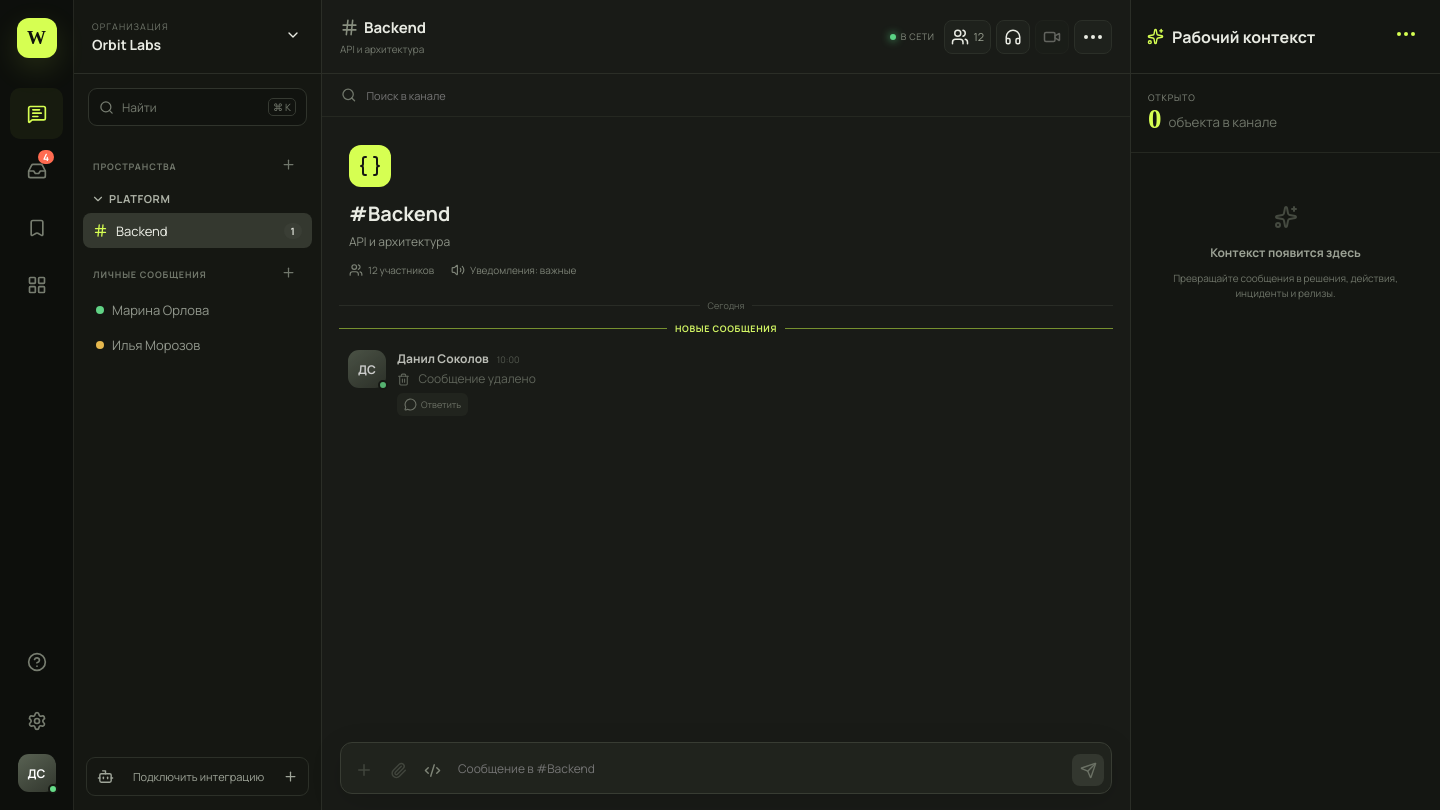
it: workspace shell › renders a tombstone without exposing deleted content to search or promotion
The width and height of the screenshot is (1440, 810).
Expected: the text "Сообщение удалено" is shown, top-left (397, 370), bottom-right (536, 387)
Type "секретный" into the field with placeholder "Поиск в канале" at {"x": 738, "y": 95}, box top-left (364, 86), bottom-right (1111, 104)
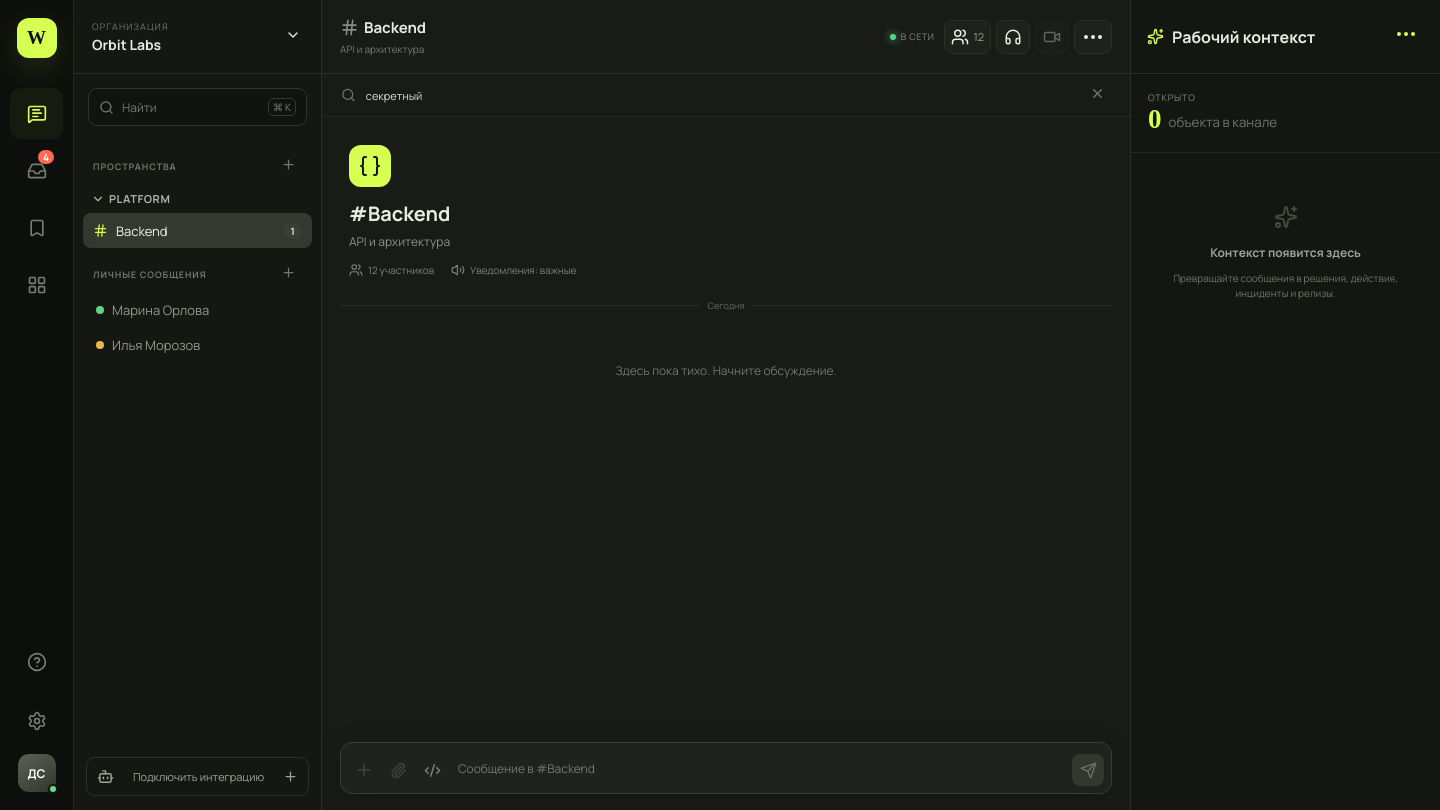
Now the text "Сообщение удалено" is gone
